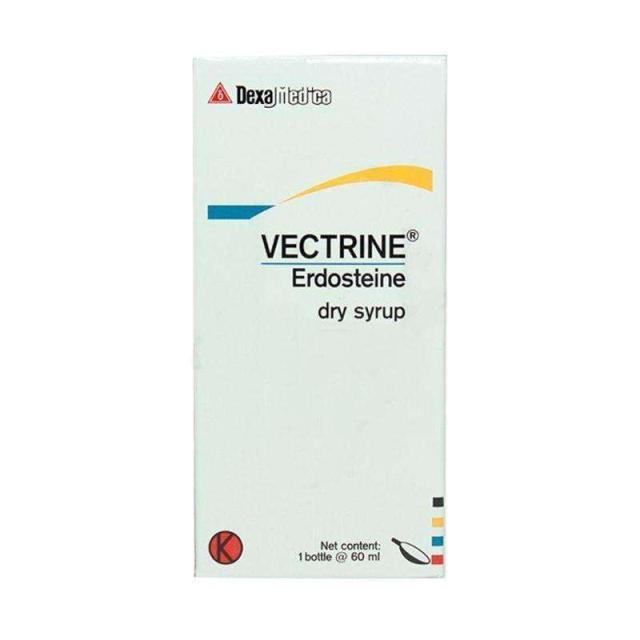drug-name: (258, 229, 406, 259)
